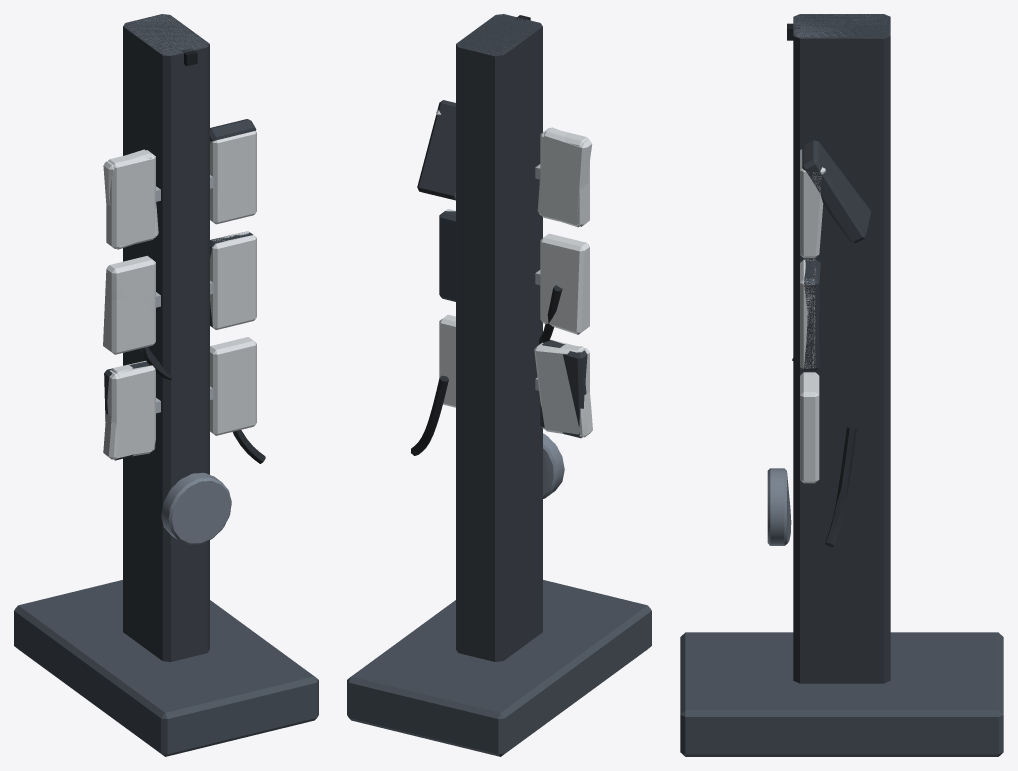
File: shr_cmp_comms_array_a.glb
The picture shows the model from 3 angles, left to right: view 1: azimuth 30°, elevation 25°; view 2: azimuth 150°, elevation 25°; view 3: azimuth 270°, elevation 25°; orthographic projection. The views are drawn at different scales.
Visible parts, largest first — view 1: mesh_heavy, mesh_intact, mesh_light; view 2: mesh_heavy, mesh_light, mesh_intact; view 3: mesh_heavy, mesh_light, mesh_intact.
Part boxes in pixels (x1,y1,x2,y2): mesh_heavy: [14, 14, 318, 756]; mesh_intact: [106, 14, 256, 544]; mesh_light: [14, 141, 317, 754]; mesh_heavy: [347, 14, 651, 756]; mesh_light: [349, 110, 651, 756]; mesh_intact: [439, 14, 589, 495]; mesh_heavy: [680, 14, 1003, 756]; mesh_light: [680, 167, 1003, 756]; mesh_intact: [767, 14, 890, 545].
Size of the model in its own units: 0.3278 by 1.18 by 0.5.
